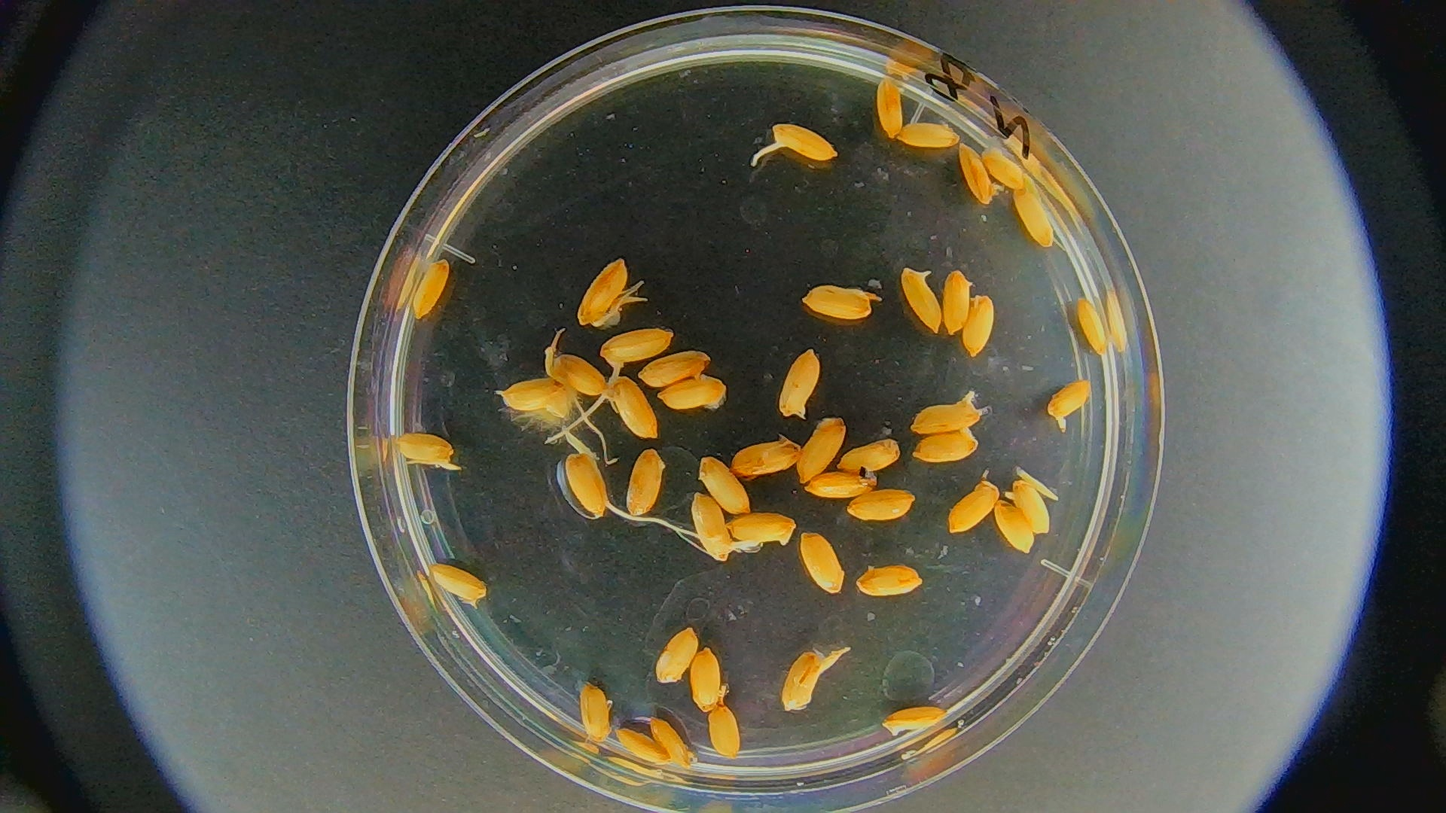no: (777, 343, 825, 422), (944, 474, 1000, 537), (731, 433, 804, 480), (697, 455, 753, 516), (645, 711, 701, 771), (803, 283, 882, 323), (690, 489, 733, 562), (607, 722, 675, 768), (898, 266, 942, 335), (429, 559, 490, 608), (797, 418, 844, 481), (798, 531, 845, 594), (706, 691, 748, 761), (1069, 294, 1115, 357), (624, 449, 667, 515), (637, 349, 713, 386), (657, 373, 729, 412), (723, 510, 800, 545), (846, 486, 920, 522), (910, 427, 988, 461), (834, 436, 902, 475), (1011, 189, 1055, 248), (687, 646, 725, 714), (572, 678, 613, 741), (410, 257, 450, 320), (993, 500, 1036, 556), (657, 626, 697, 684), (873, 75, 907, 143), (857, 565, 923, 600), (941, 269, 977, 333), (978, 143, 1027, 190), (881, 706, 953, 737), (963, 294, 996, 361), (804, 469, 880, 498), (894, 120, 962, 148)
yes: (578, 259, 627, 330), (606, 376, 659, 440), (547, 346, 617, 394), (560, 449, 609, 517), (910, 391, 986, 434), (393, 428, 465, 473), (496, 379, 583, 416), (778, 647, 826, 713), (768, 121, 840, 161), (956, 143, 1003, 204), (1004, 477, 1052, 536), (598, 333, 673, 367), (1045, 379, 1097, 422)
